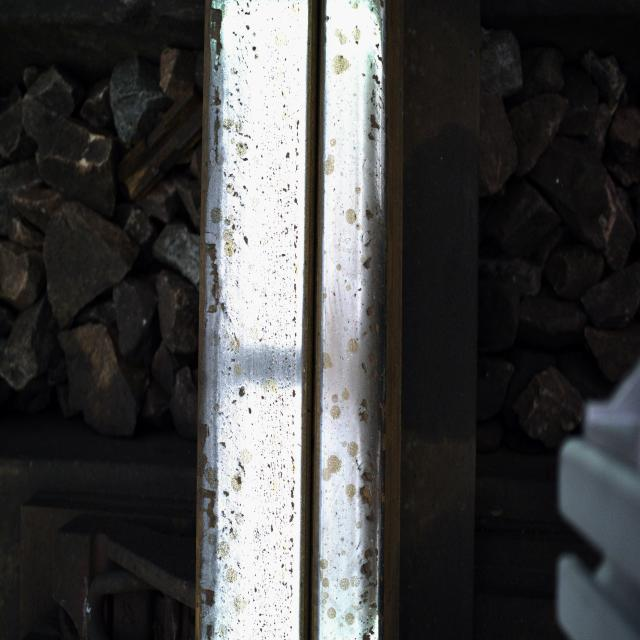scar: (325, 26, 380, 589), (214, 16, 264, 578)
